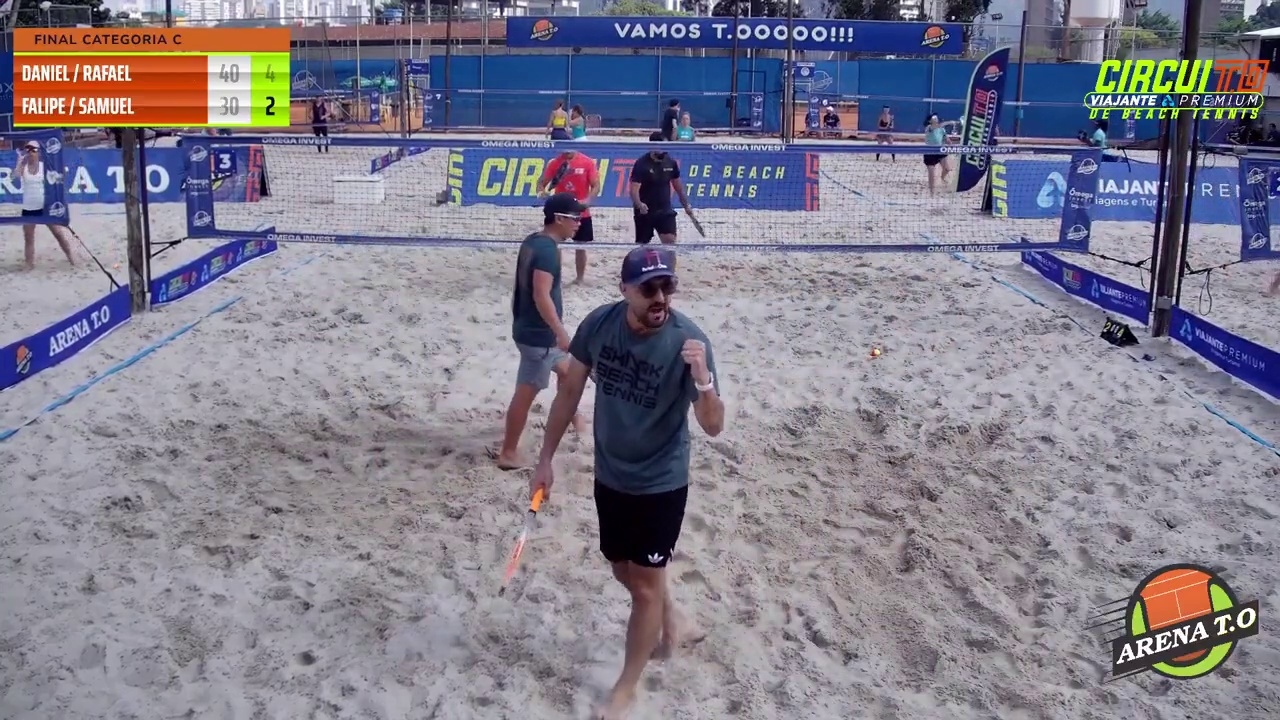court_line: (619, 0, 812, 473)
